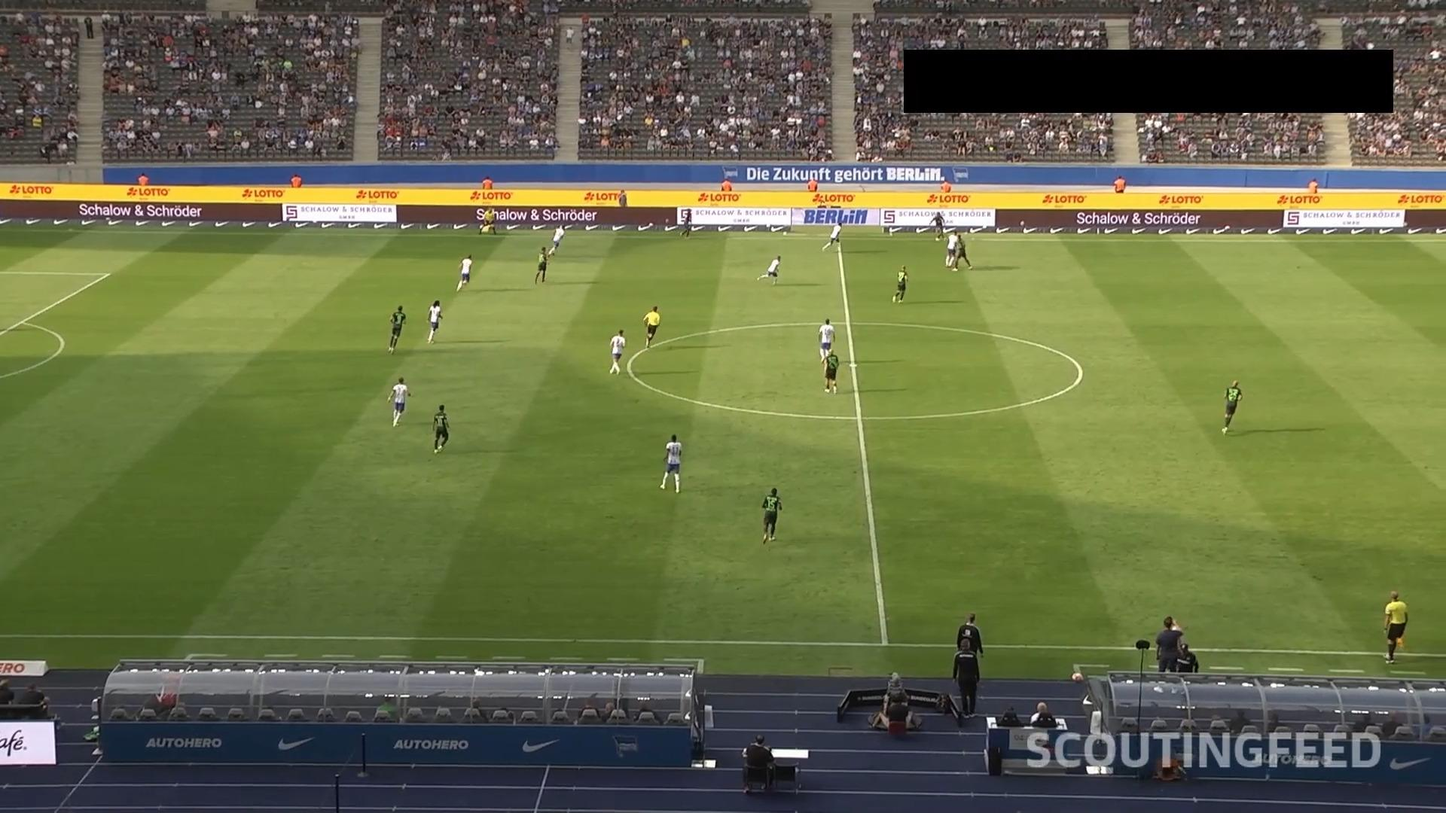player: (660, 433, 684, 495), (386, 377, 413, 432), (763, 486, 784, 547), (1222, 379, 1243, 440), (387, 306, 409, 355), (820, 218, 847, 254), (432, 404, 451, 455), (608, 329, 628, 377), (818, 317, 836, 365), (426, 300, 443, 349), (757, 254, 782, 286), (823, 348, 840, 394), (953, 233, 972, 274), (892, 263, 910, 305), (455, 253, 472, 293), (532, 245, 548, 285), (549, 224, 566, 257), (946, 230, 960, 266), (930, 212, 946, 243), (680, 207, 692, 239)
referee: (1384, 592, 1408, 663), (643, 303, 661, 349), (479, 208, 498, 235)
